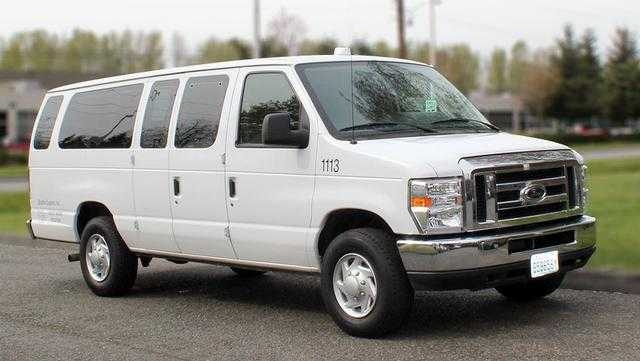van: (25, 54, 596, 339)
